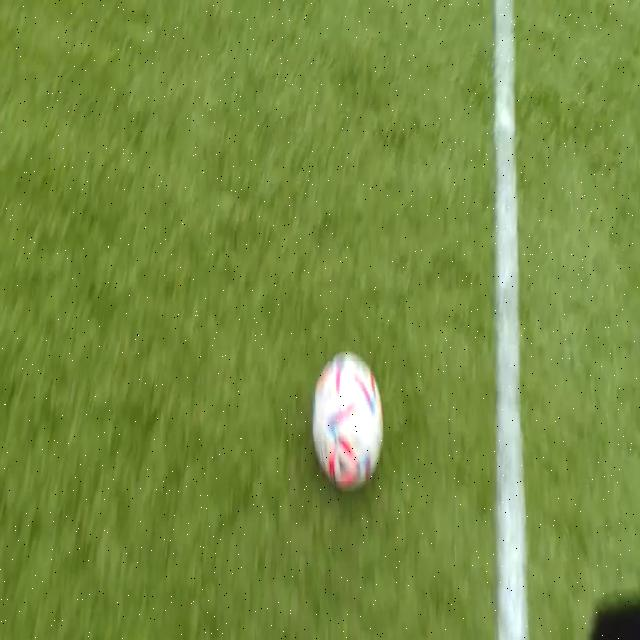ball: (312, 353, 383, 491)
